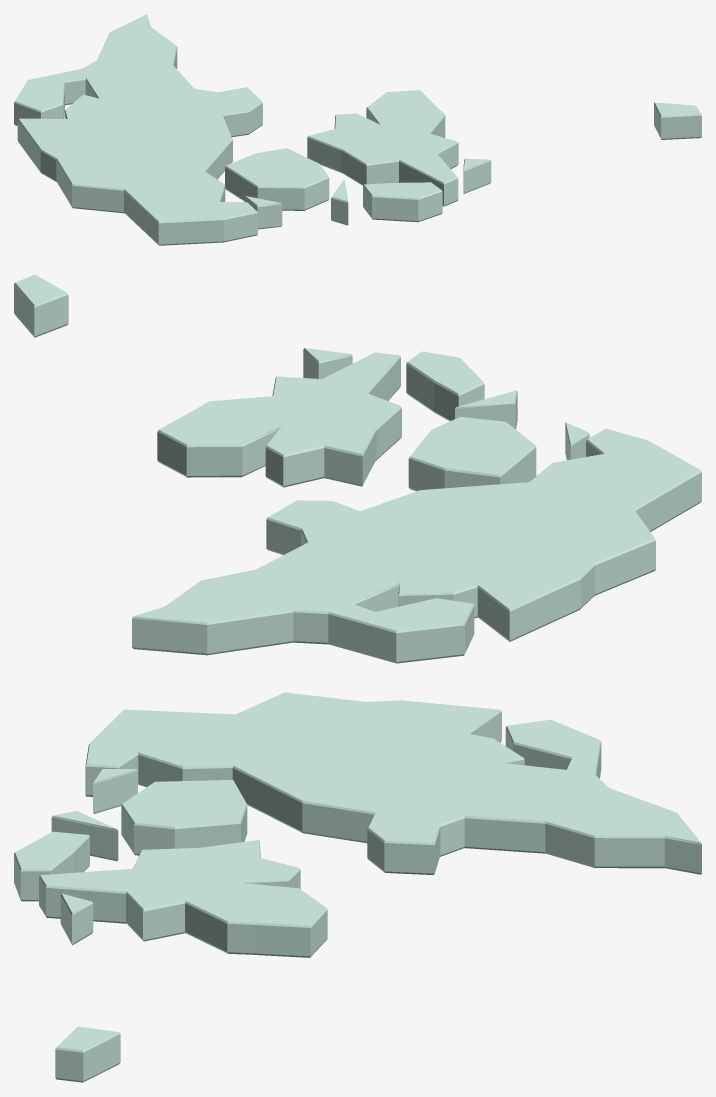
The model's file is DNK.glb.
3 renders of one model, top to bottom at view 1: azimuth 30°, elevation 25°; view 2: azimuth 150°, elevation 25°; view 3: azimuth 270°, elevation 25°, orthographic. The views are drawn at different scales.
Size of the model in its own units: 1.62 by 0.068 by 1.31.
